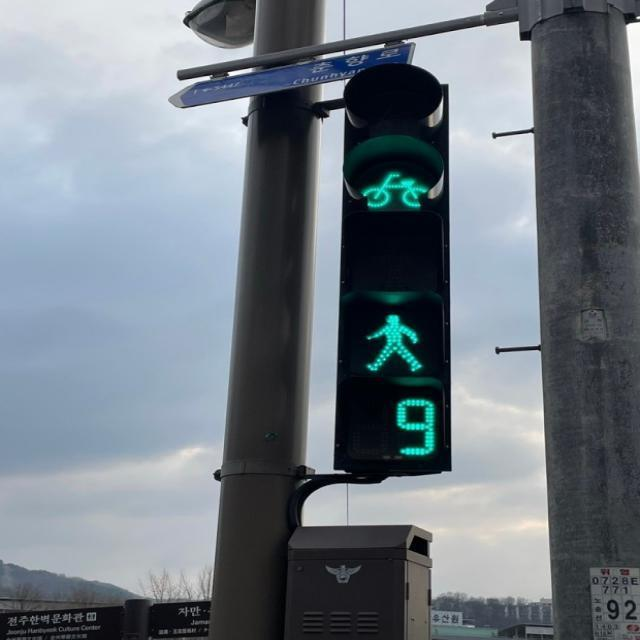green_light: (352, 309, 443, 460)
